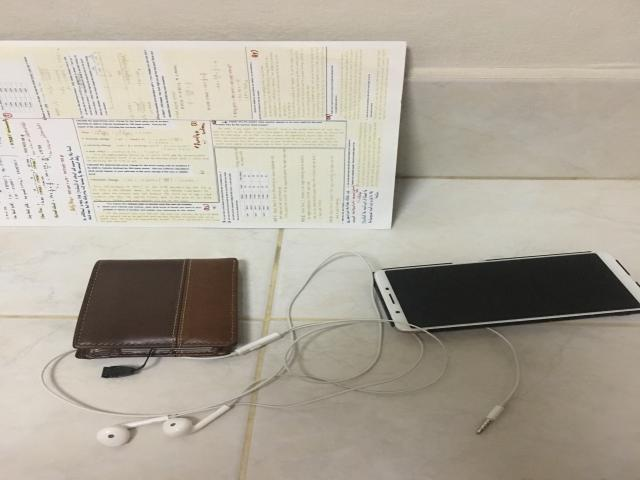Mobile phone: (373, 251, 640, 334)
Wallet: (73, 258, 238, 359)
paper: (0, 41, 407, 229)
wire: (97, 401, 235, 446)
